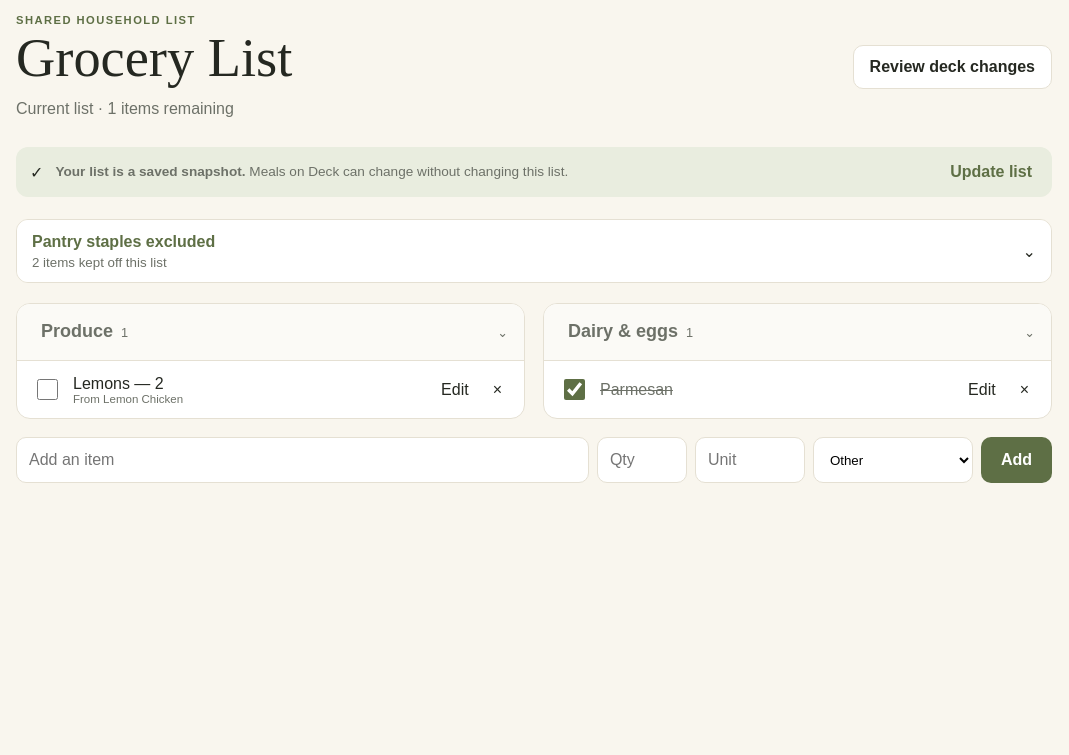
Test: Groceries › shows proposed changes before applying them
This screenshot has width=1069, height=755.
Click the button "Review deck changes".
click(952, 67)  # box [853,45,1052,89]
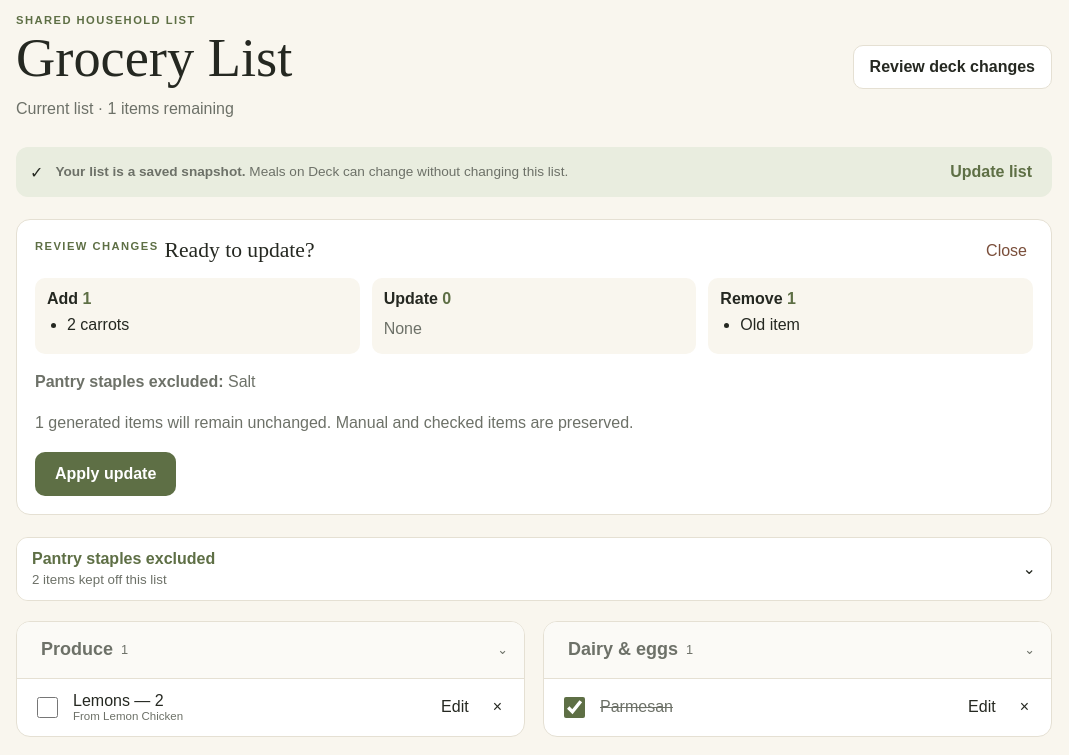
Result: the list item "2 carrots" is shown at [67,316,129,333]
Result: the list item "Old item" is shown at [740,316,800,333]
Result: the button "Apply update" is shown at [35,452,176,496]
